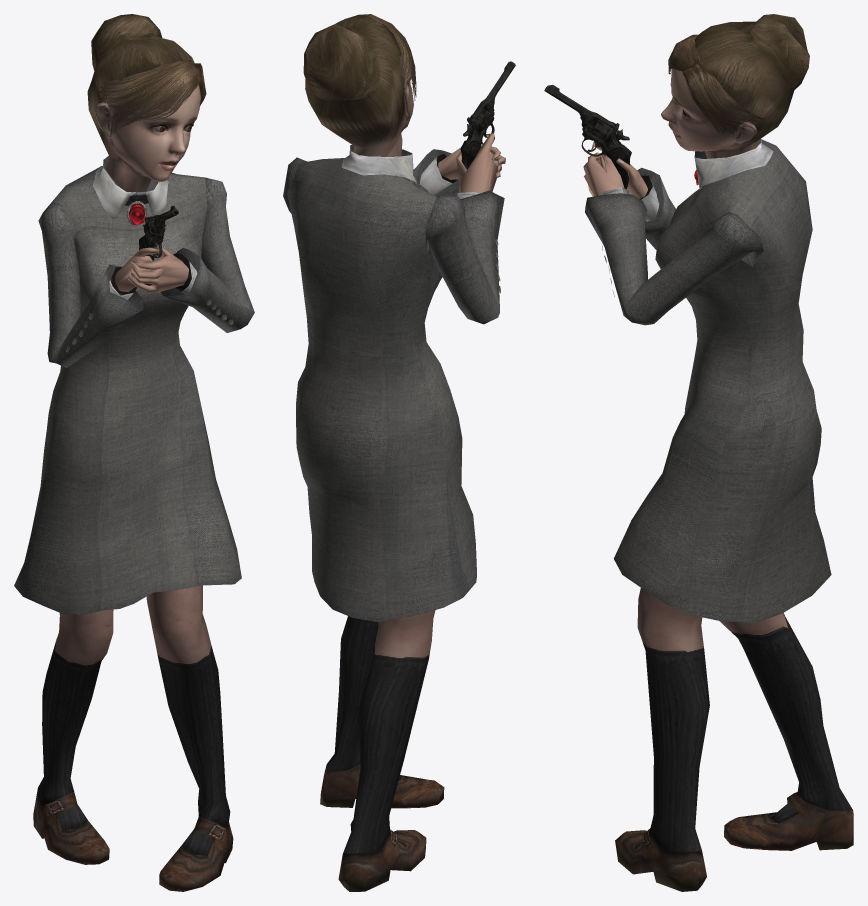
File: jenniferGun.obj
3 views of the same model, side by side, from view 1: azimuth 30°, elevation 25°; view 2: azimuth 150°, elevation 25°; view 3: azimuth 270°, elevation 25° (orthographic). The views are drawn at different scales.
Parts seen in each view (by area): view 1: Model001_3_torso(1)_1_0_0.001, Model001_3_legs_1_0_0.001, Model001_3_arms_1_0_0.001, Model001_24_shoes_1_0_0.001, Model001_3_face_1_0_0.001, Model001_24_hair_1_0_0.001, Model001_25_hair-transparent_0.1_0_0.001, Model001_3_hands_1_0_0.001, Model001_3_collar_1_0_0.001, Model002_24_webley_1_0_0, Model001_3_sleeves_1_0_0.001; view 2: Model001_3_torso(1)_1_0_0.001, Model001_3_legs_1_0_0.001, Model001_24_hair_1_0_0.001, Model001_3_arms_1_0_0.001, Model001_24_shoes_1_0_0.001, Model001_3_hands_1_0_0.001, Model002_24_webley_1_0_0, Model001_3_collar_1_0_0.001, Model001_25_hair-transparent_0.1_0_0.001, Model001_3_sleeves_1_0_0.001, Model001_3_face_1_0_0.001; view 3: Model001_3_torso(1)_1_0_0.001, Model001_3_legs_1_0_0.001, Model001_3_arms_1_0_0.001, Model001_24_hair_1_0_0.001, Model001_24_shoes_1_0_0.001, Model001_3_face_1_0_0.001, Model001_25_hair-transparent_0.1_0_0.001, Model002_24_webley_1_0_0, Model001_3_hands_1_0_0.001, Model001_3_collar_1_0_0.001, Model001_3_sleeves_1_0_0.001.
Boxes of the visible parts, box(x1,y1,x2,y2) form: Model001_3_torso(1)_1_0_0.001: box(14, 166, 241, 614); Model001_3_legs_1_0_0.001: box(38, 585, 230, 855); Model001_3_arms_1_0_0.001: box(38, 177, 254, 367); Model001_24_shoes_1_0_0.001: box(33, 788, 233, 891); Model001_3_face_1_0_0.001: box(94, 83, 200, 192); Model001_24_hair_1_0_0.001: box(87, 14, 194, 157); Model001_25_hair-transparent_0.1_0_0.001: box(97, 60, 206, 133); Model001_3_hands_1_0_0.001: box(115, 247, 188, 292); Model001_3_collar_1_0_0.001: box(93, 156, 168, 218); Model002_24_webley_1_0_0: box(139, 205, 178, 285); Model001_3_sleeves_1_0_0.001: box(109, 251, 197, 299); Model001_3_torso(1)_1_0_0.001: box(287, 158, 476, 622); Model001_3_legs_1_0_0.001: box(324, 610, 435, 853); Model001_24_hair_1_0_0.001: box(303, 15, 404, 156); Model001_3_arms_1_0_0.001: box(283, 149, 504, 324); Model001_24_shoes_1_0_0.001: box(320, 763, 444, 891); Model001_3_hands_1_0_0.001: box(422, 133, 505, 193); Model002_24_webley_1_0_0: box(460, 61, 515, 169); Model001_3_collar_1_0_0.001: box(341, 145, 416, 185); Model001_25_hair-transparent_0.1_0_0.001: box(357, 14, 416, 100); Model001_3_sleeves_1_0_0.001: box(420, 154, 479, 199); Model001_3_face_1_0_0.001: box(387, 71, 413, 156); Model001_3_torso(1)_1_0_0.001: box(614, 139, 831, 623); Model001_3_legs_1_0_0.001: box(637, 588, 852, 852); Model001_3_arms_1_0_0.001: box(585, 167, 763, 325); Model001_24_hair_1_0_0.001: box(694, 14, 809, 153); Model001_24_shoes_1_0_0.001: box(615, 792, 853, 891); Model001_3_face_1_0_0.001: box(661, 68, 756, 158); Model001_25_hair-transparent_0.1_0_0.001: box(668, 34, 764, 134); Model002_24_webley_1_0_0: box(544, 85, 631, 189); Model001_3_hands_1_0_0.001: box(583, 141, 647, 198); Model001_3_collar_1_0_0.001: box(694, 139, 773, 189); Model001_3_sleeves_1_0_0.001: box(601, 175, 659, 221).
Size of the model in its own units: 0.4129 by 1.68 by 0.5526.
